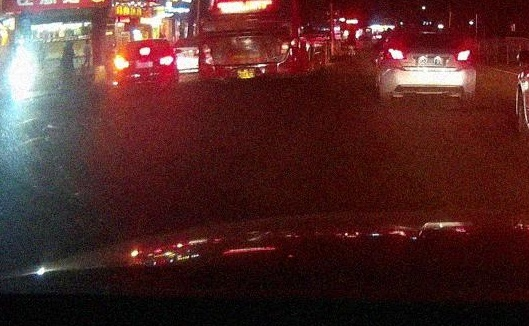L_light: (114, 54, 129, 70), (387, 48, 406, 60)
R_light: (456, 49, 471, 61), (159, 55, 173, 66)
T_light: (422, 33, 439, 37), (139, 48, 150, 54)
night-left: (114, 39, 175, 93)
night-no: (379, 30, 477, 105)
